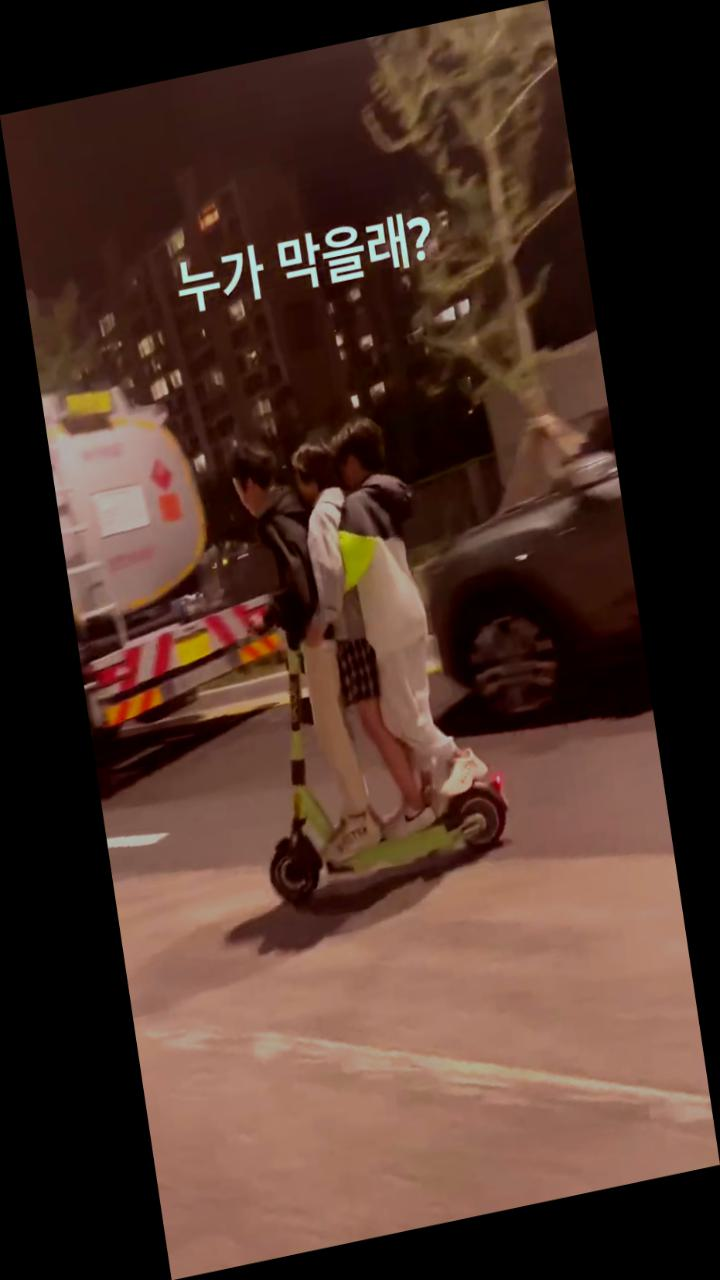multiple: (200, 383, 523, 922)
